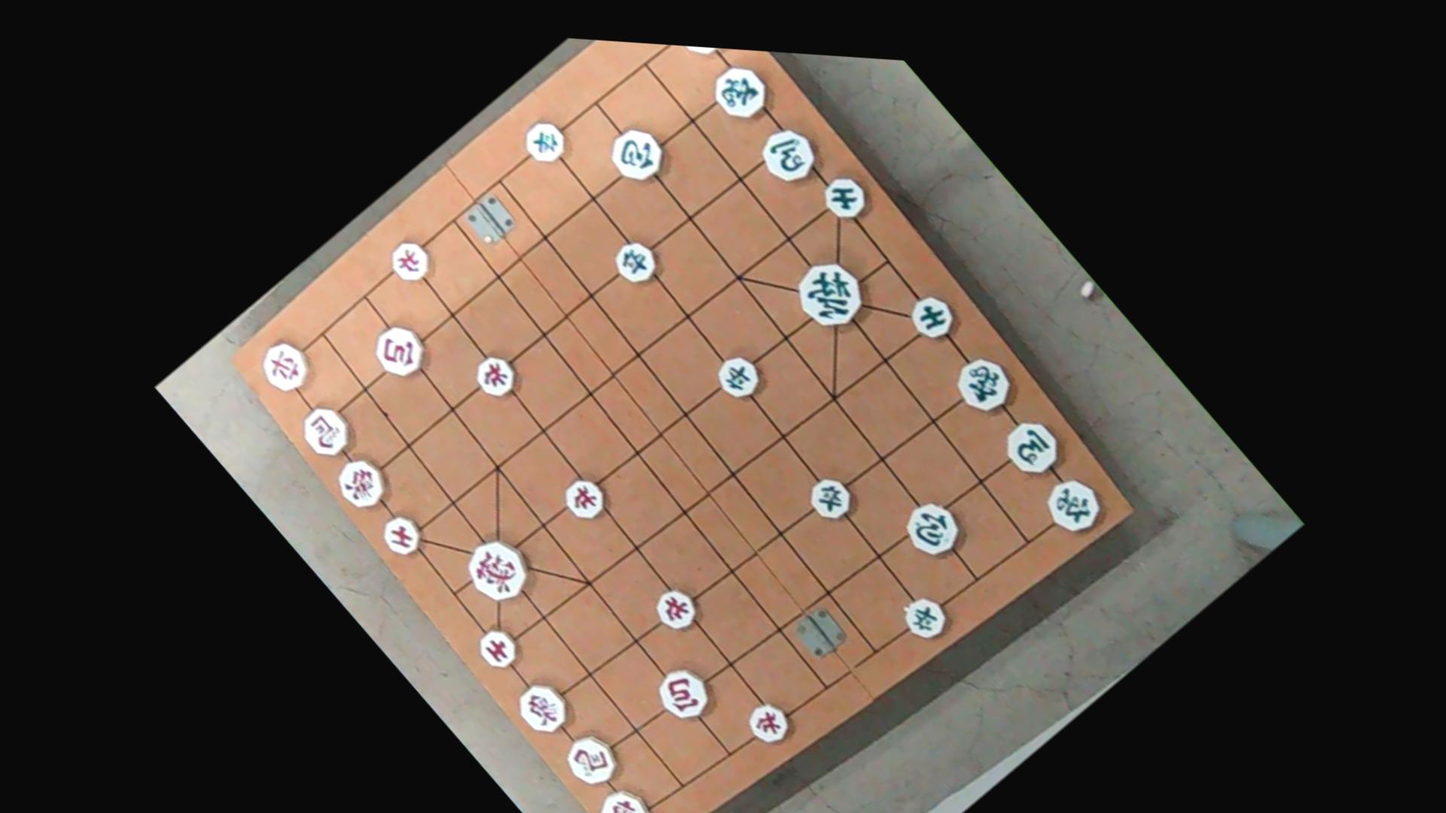cha_green: (1034, 464, 1111, 544), (668, 44, 737, 64)
cha_red: (252, 328, 320, 400), (590, 779, 655, 813)
jol_green: (895, 586, 953, 647), (802, 468, 859, 528), (709, 346, 766, 405), (609, 233, 665, 293), (515, 112, 570, 169)
jol_red: (742, 693, 798, 752), (557, 468, 612, 525), (466, 344, 520, 401), (648, 580, 702, 636), (385, 236, 438, 290)
ma_green: (993, 406, 1069, 486), (752, 116, 823, 190)
ma_red: (558, 724, 625, 795), (294, 397, 357, 462)
po_green: (599, 115, 671, 189), (898, 491, 969, 564)
po_red: (650, 659, 717, 729), (365, 312, 432, 382)
sa_green: (814, 166, 874, 228), (902, 285, 960, 345)
sa_red: (375, 507, 428, 562), (472, 621, 524, 675)
sang_green: (940, 339, 1023, 425), (704, 53, 775, 128)
sang_red: (512, 674, 578, 743), (328, 449, 394, 517)
wang_green: (783, 245, 872, 338)
wang_red: (456, 527, 538, 612)
